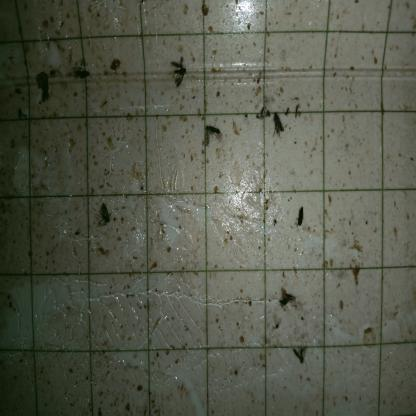prays_oleae: (166, 52, 189, 92), (276, 282, 296, 314), (203, 121, 224, 150), (289, 336, 308, 366), (97, 200, 114, 233), (270, 105, 285, 142), (71, 60, 92, 84), (292, 204, 308, 233)
